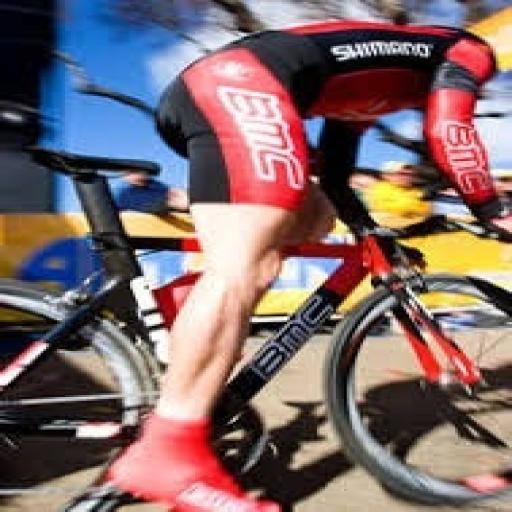cycling: (60, 15, 509, 510)
